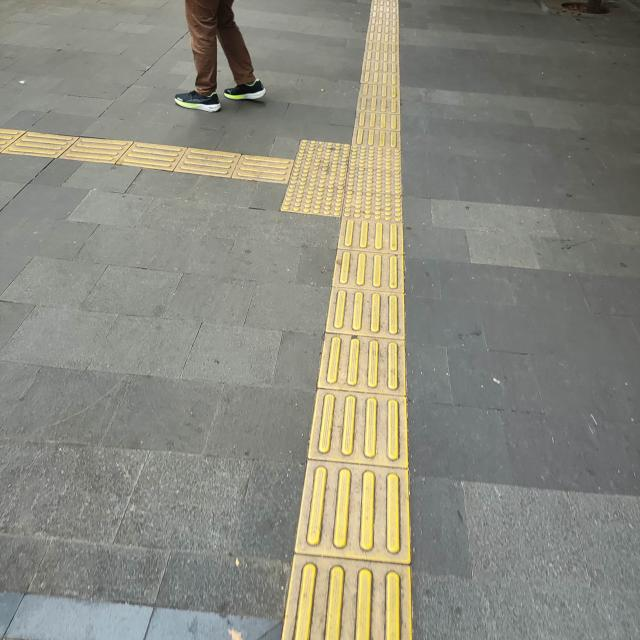lurus: (308, 223, 410, 640), (354, 2, 400, 142)
